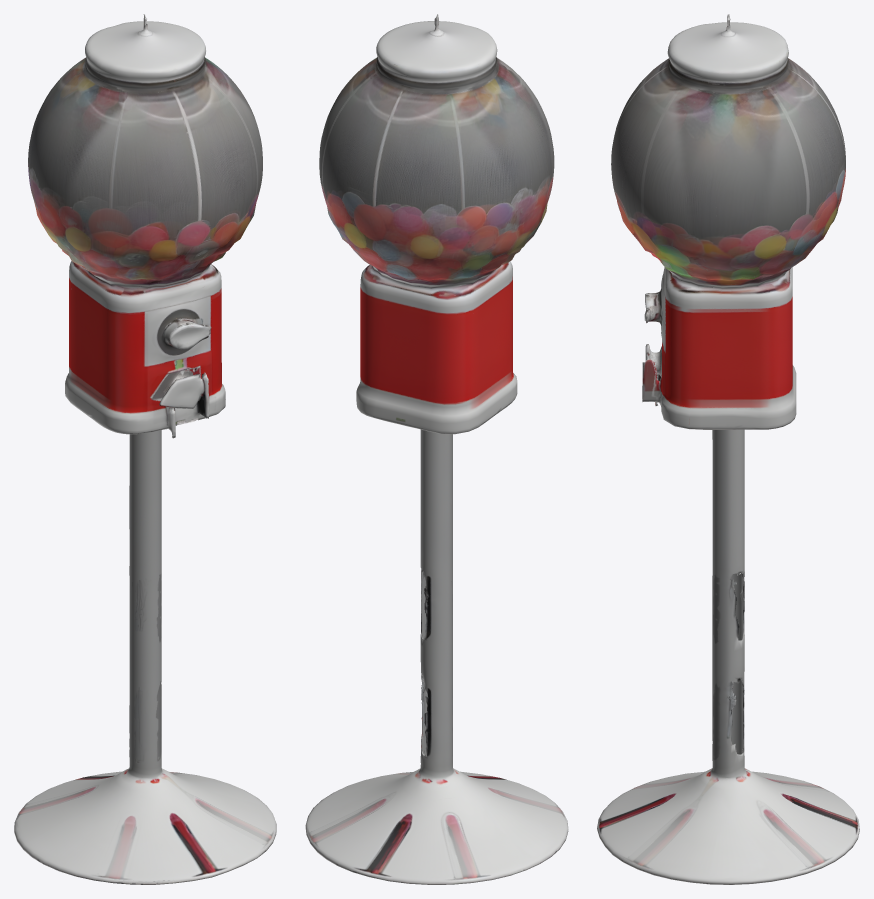
Rendered from Meshy_AI_Gumball_Dispenser_0107120635_texture.fbx.
The picture shows the model from 3 angles, left to right: view 1: azimuth 30°, elevation 25°; view 2: azimuth 150°, elevation 25°; view 3: azimuth 270°, elevation 25°; orthographic projection.
Parts seen in each view (by area): view 1: Mesh0; view 2: Mesh0; view 3: Mesh0.
Part boxes in pixels (box(x1,y1,x2,y2)): Mesh0: box(14, 14, 276, 884); Mesh0: box(305, 14, 568, 884); Mesh0: box(597, 14, 859, 884).
Bounding box in the file's own units: 55.62 × 191 × 55.62.
Materials: 1 (1 with a texture image).
